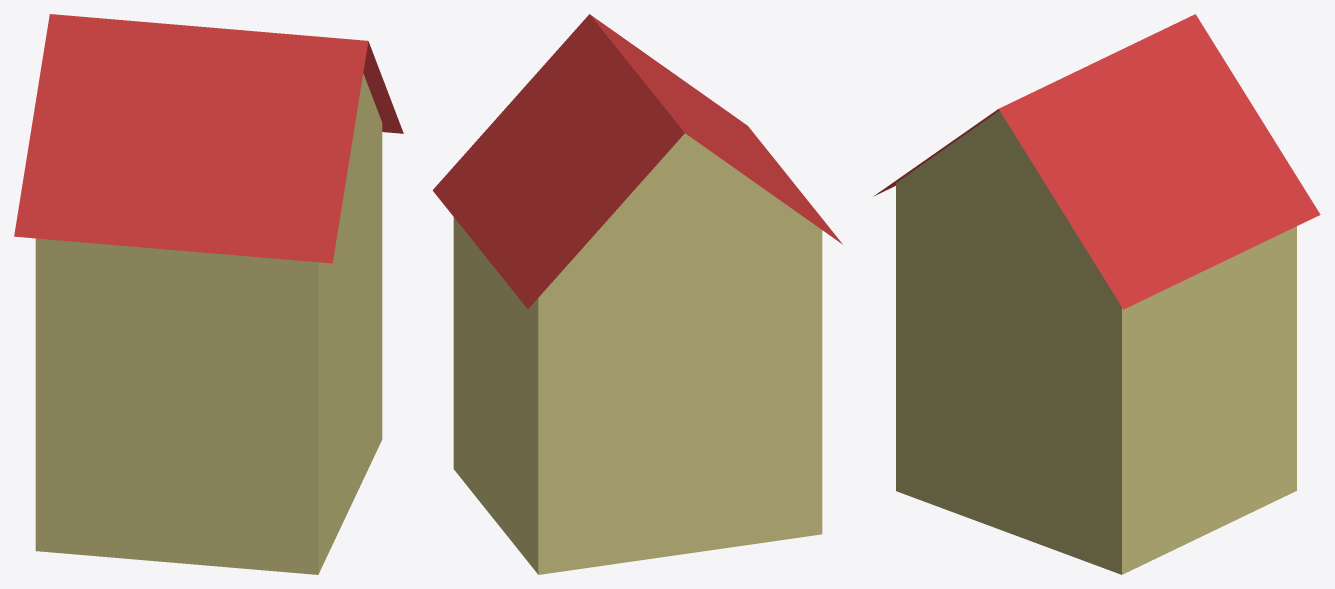
3 views of the same model, side by side, from view 1: azimuth 30°, elevation 25°; view 2: azimuth 150°, elevation 25°; view 3: azimuth 270°, elevation 25° (orthographic). The views are drawn at different scales.
Size of the model in its own units: 13.21 by 13.31 by 14.08.
